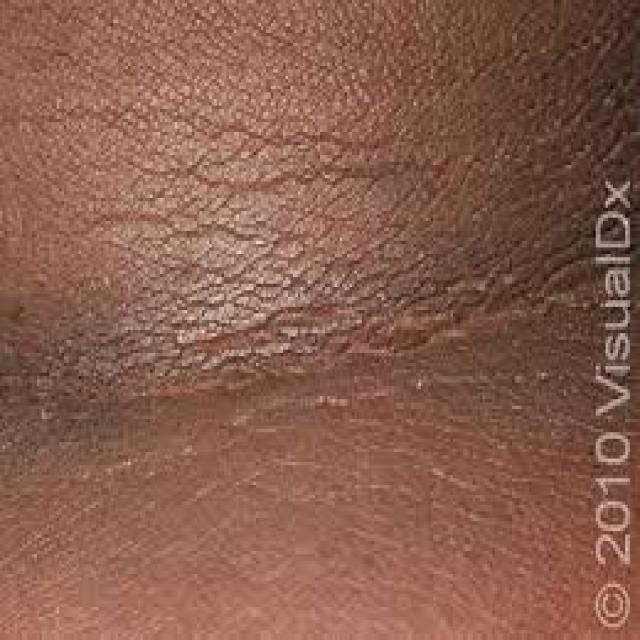Acanthosis Nigricans: (8, 79, 585, 601)
